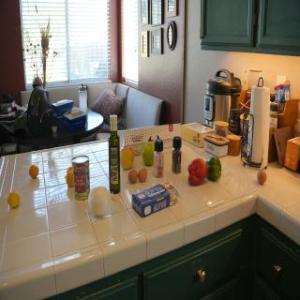bell_pepper: (189, 158, 207, 186), (206, 154, 222, 184)
egg: (256, 171, 268, 187), (128, 169, 138, 184), (138, 168, 148, 183)
onion: (87, 186, 115, 216)
